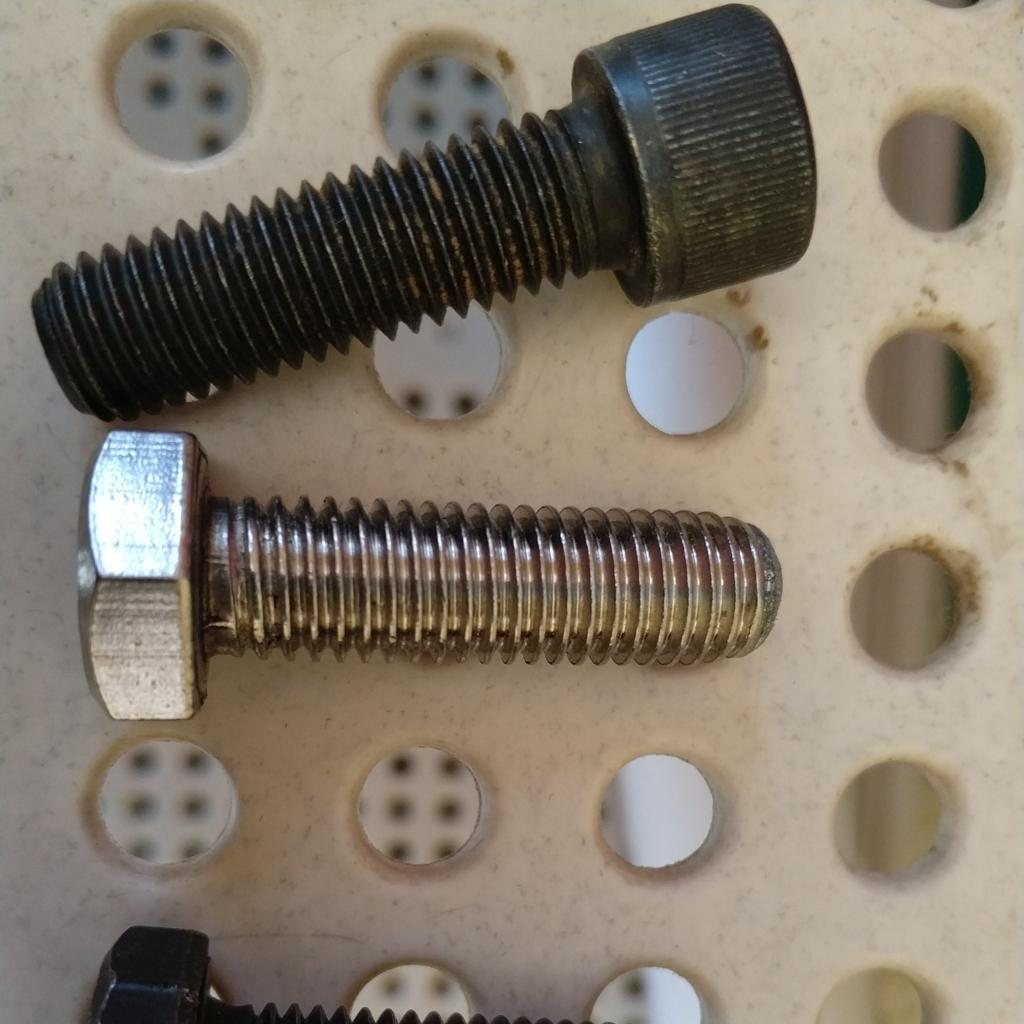screwtype1black: (22, 1, 826, 425)
screwtype2black: (51, 891, 648, 1024)
screwtype2silver: (70, 428, 787, 728)
